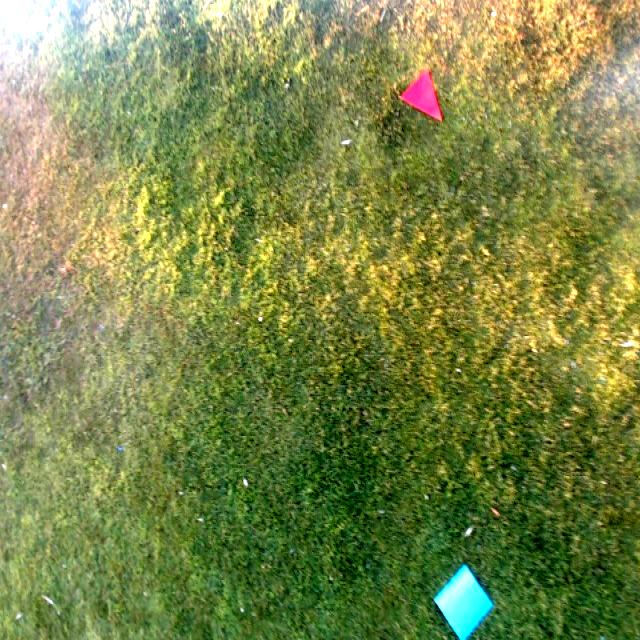blue_square: (431, 560, 494, 639)
red_triangle: (399, 67, 445, 125)
